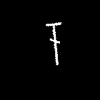double_crochet: (46, 23, 60, 64)
